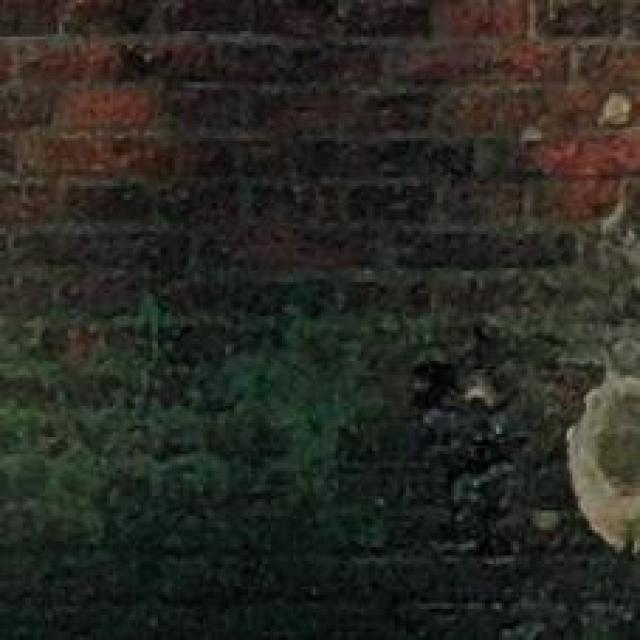Crack: (449, 250, 640, 639)
